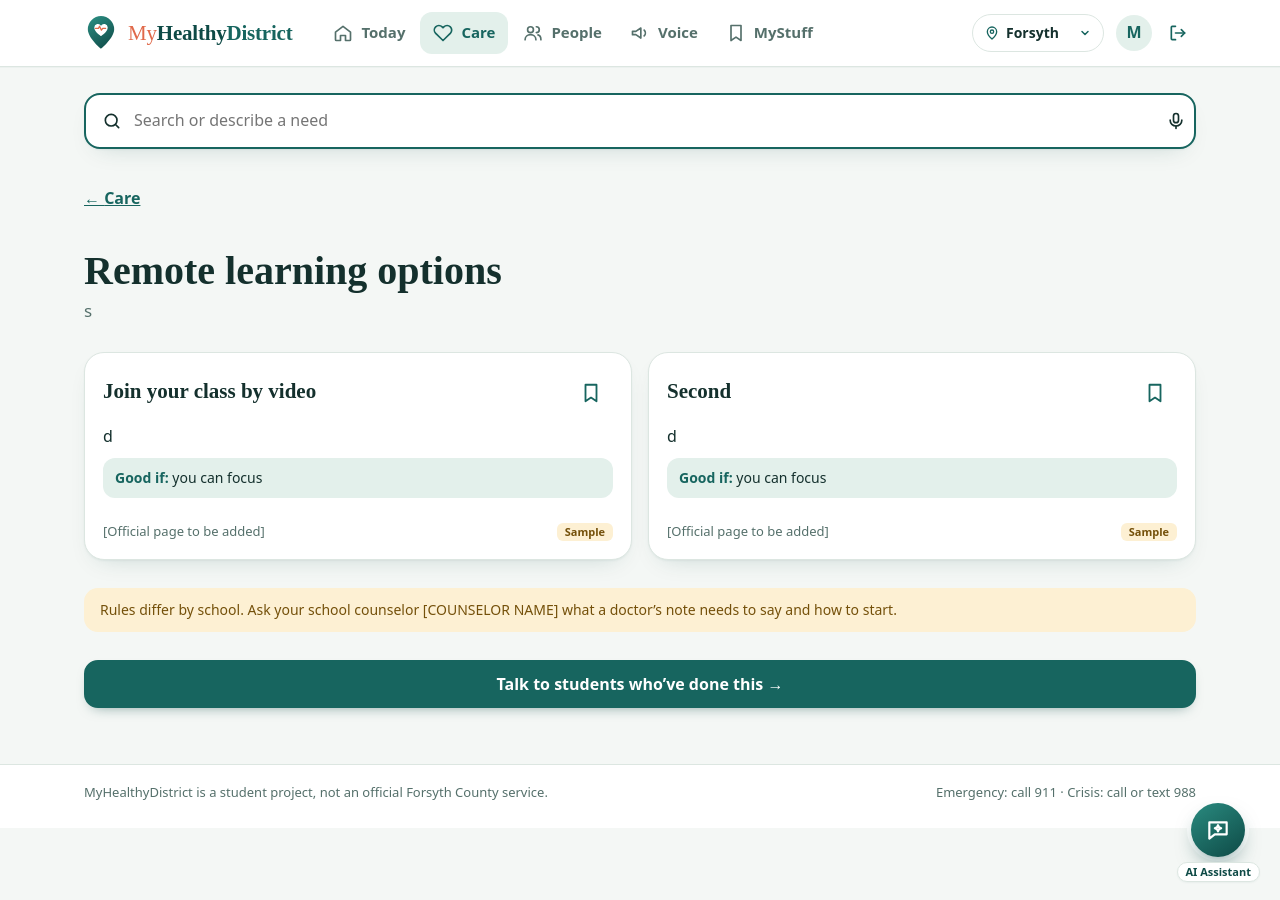
Maya's flow › saves an option to MyStuff with the bookmark button and rolls back when the save fails
Later steps or results of the test are not shown.
Check: the heading "Remote learning options" is shown, box [84, 248, 502, 293]
Click the button named "Save to MyStuff" in the row of "Join your class by video" at point(591, 393), box [569, 371, 613, 415]
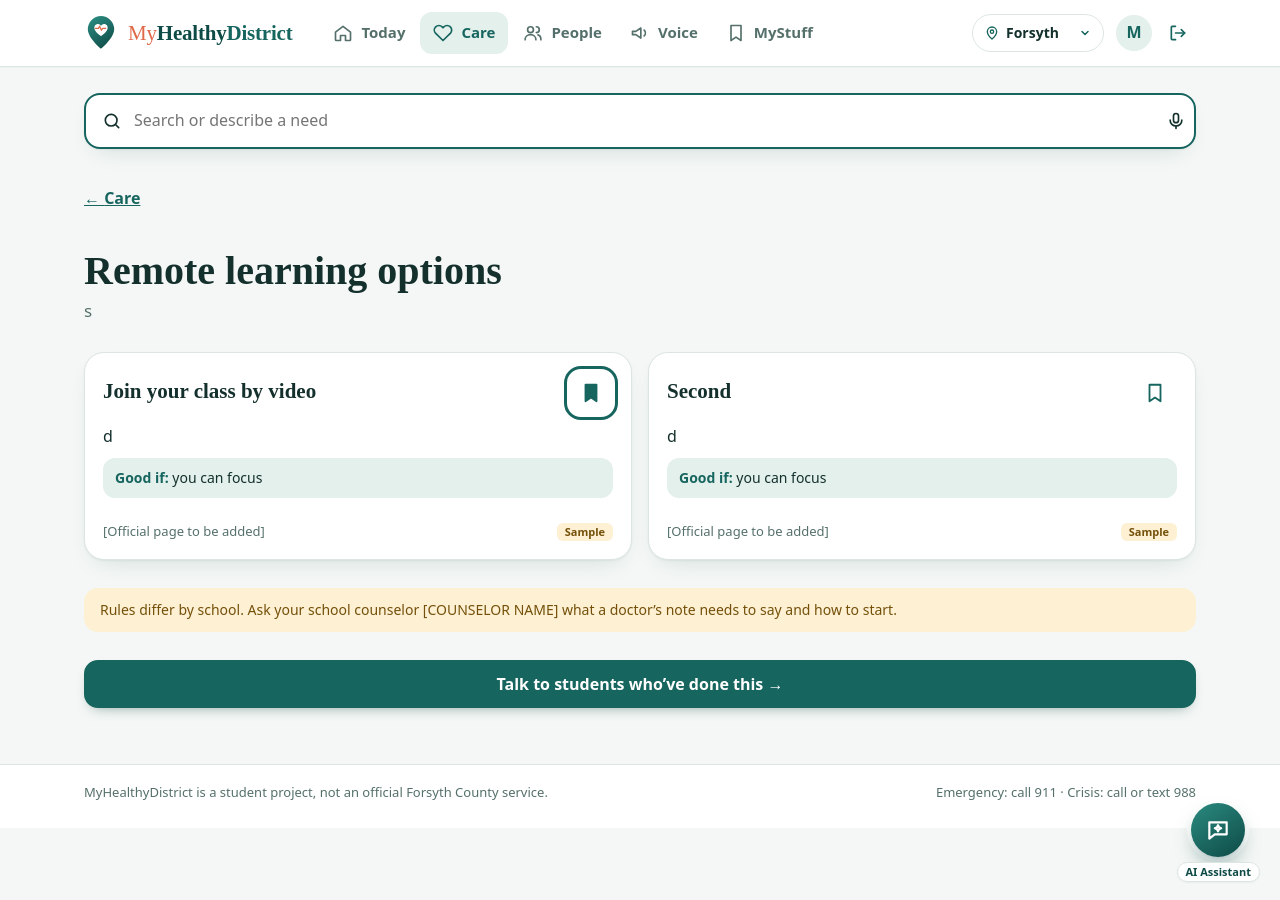
Check: the button named "Saved to MyStuff" is pressed, box [569, 371, 613, 415]
